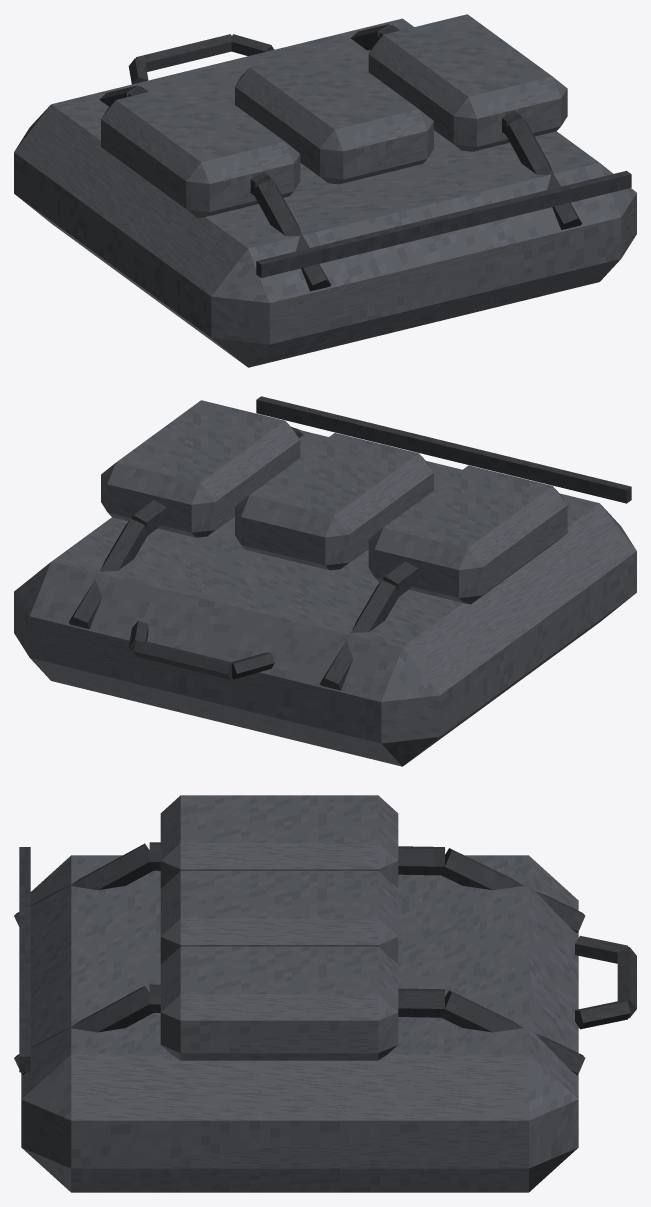
Rendered from chestrig.glb.
The picture shows the model from 3 angles, top to bottom: view 1: azimuth 30°, elevation 25°; view 2: azimuth 150°, elevation 25°; view 3: azimuth 270°, elevation 25°; orthographic projection. The views are drawn at different scales.
Visible parts, largest first — view 1: block_bag shell, block_front pocket (×3), block_zipper, block_webbing strap 2 (×2), block_carry handle 1, block_carry handle 2, block_webbing strap 0; view 2: block_bag shell, block_front pocket (×3), block_zipper, block_webbing strap 0 (×2), block_carry handle 1, block_webbing strap 1 (×2), block_carry handle 0; view 3: block_bag shell, block_front pocket (×3), block_webbing strap 2 (×2), block_webbing strap 0 (×2), block_webbing strap 1 (×2), block_zipper, block_carry handle 1, block_carry handle 2, block_carry handle 0.
Boxes of the visible parts, x1,y1,x2,y2 form: block_bag shell: (14, 18, 636, 367); block_front pocket (×3): (101, 14, 567, 218); block_zipper: (256, 170, 631, 277); block_webbing strap 2 (×2): (254, 118, 582, 291); block_carry handle 1: (136, 34, 231, 71); block_carry handle 2: (231, 34, 274, 55); block_webbing strap 0: (350, 24, 390, 50); block_bag shell: (14, 429, 636, 766); block_front pocket (×3): (101, 400, 567, 604); block_zipper: (256, 396, 631, 503); block_webbing strap 0 (×2): (68, 519, 399, 690); block_carry handle 1: (133, 640, 231, 679); block_webbing strap 1 (×2): (131, 500, 417, 597); block_carry handle 0: (231, 652, 274, 679); block_bag shell: (21, 855, 578, 1192); block_front pocket (×3): (160, 795, 398, 1060); block_webbing strap 2 (×2): (14, 843, 153, 1074); block_webbing strap 0 (×2): (441, 848, 585, 1074); block_webbing strap 1 (×2): (149, 842, 445, 1017); block_zipper: (19, 847, 30, 1072); block_carry handle 1: (617, 947, 636, 1018); block_carry handle 2: (575, 1001, 630, 1029); block_carry handle 0: (575, 935, 628, 963).
Size of the model in its own units: 0.1453 by 0.0558 by 0.1587.
Materials: 1 (1 with a texture image).
